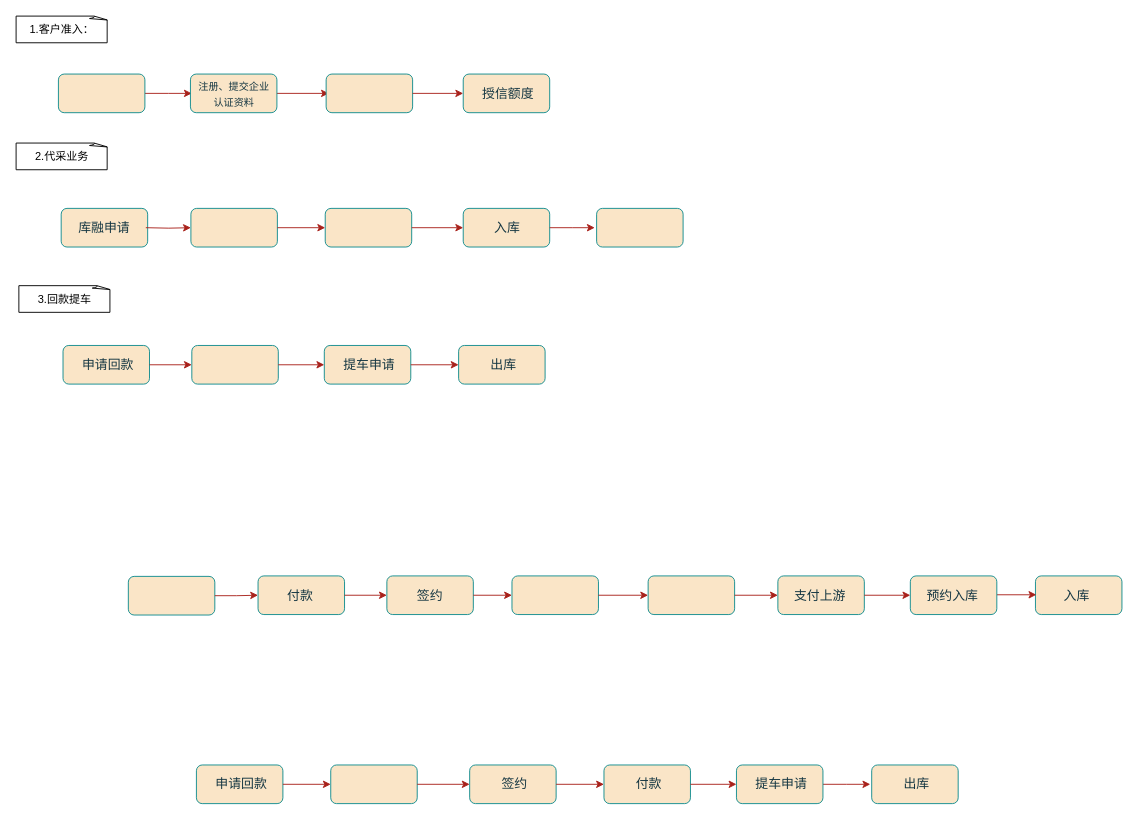
Image size: 1138x820. Some labels were removed from this diagram. Here are the shapes that lost their labels. From the top down, the box of each, then its label:
(58, 73, 145, 113): 注册邀请
(325, 73, 413, 113): 提交企业尽调资料
(190, 207, 277, 247): 车300验车
(324, 207, 412, 247): 平台审核
(596, 207, 683, 247): 放款
(191, 345, 278, 384): 确认还款
(127, 575, 215, 615): 采购开单
(511, 575, 598, 615): 线下验车
(647, 575, 735, 615): 平台验车
(330, 764, 417, 804): 结算
